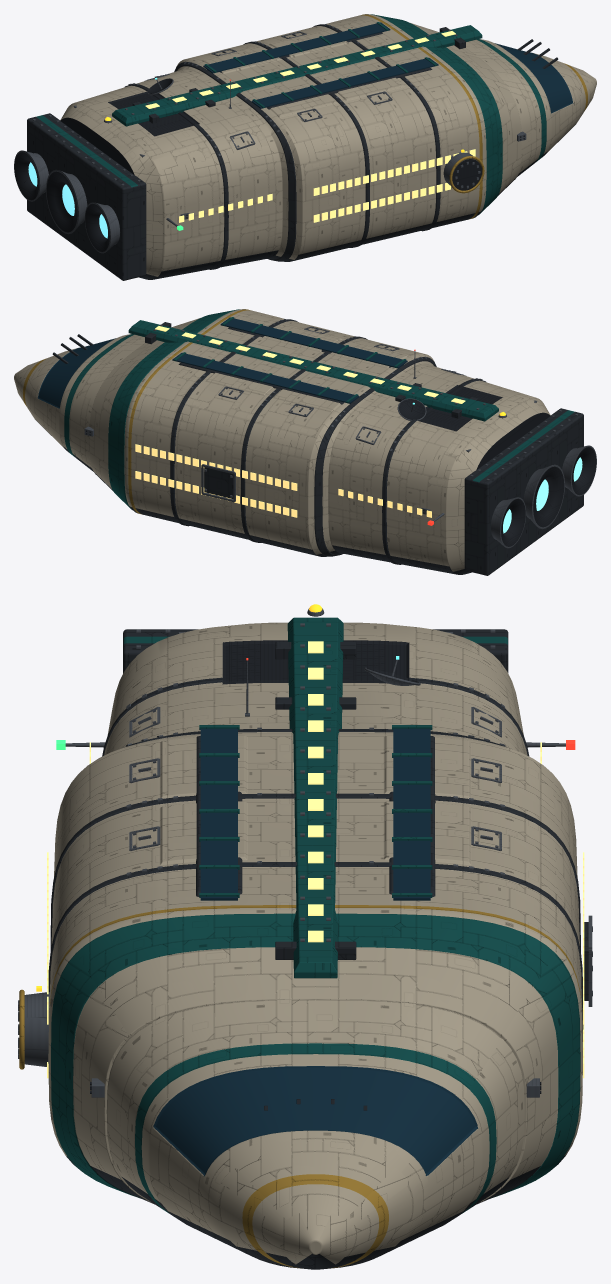
Rendered from massline_express_liner_v1.glb.
3 views of the same model, one above another, from view 1: azimuth 30°, elevation 25°; view 2: azimuth 150°, elevation 25°; view 3: azimuth 270°, elevation 25° (orthographic). The views are drawn at different scales.
Parts seen in each view (by area): view 1: LOD0_MOTION_HULL_CORE_Hull, LOD0_MOTION_HULL_CORE_Armor_frame, LOD0_MOTION_HULL_CORE_Armor, LOD0_MOTION_HULL_CORE_MechanicalDark, LOD0_MOTION_HULL_CORE_CANOPY, LOD0_MOTION_HULL_CORE_Mechanical, LOD0_MOTION_HULL_CORE_Lights_Warm, LOD0_MOTION_HULL_CORE_Warning, LOD0_MOTION_HULL_CORE_HOOK_DRIVE_CORE; view 2: LOD0_MOTION_HULL_CORE_Hull, LOD0_MOTION_HULL_CORE_Armor_frame, LOD0_MOTION_HULL_CORE_Armor, LOD0_MOTION_HULL_CORE_MechanicalDark, LOD0_MOTION_HULL_CORE_CANOPY, LOD0_MOTION_HULL_CORE_Mechanical, LOD0_MOTION_HULL_CORE_Lights_Warm, LOD0_MOTION_HULL_CORE_Warning, LOD0_MOTION_HULL_CORE_HOOK_DRIVE_CORE; view 3: LOD0_MOTION_HULL_CORE_Hull, LOD0_MOTION_HULL_CORE_Armor, LOD0_MOTION_HULL_CORE_CANOPY, LOD0_MOTION_HULL_CORE_Armor_frame, LOD0_MOTION_HULL_CORE_Mechanical, LOD0_MOTION_HULL_CORE_MechanicalDark, LOD0_MOTION_HULL_CORE_Warning, LOD0_MOTION_HULL_CORE_Lights_Warm.
Boxes of the visible parts, x1,y1,x2,y2 form: LOD0_MOTION_HULL_CORE_Hull: [60, 14, 596, 276]; LOD0_MOTION_HULL_CORE_Armor_frame: [27, 24, 575, 280]; LOD0_MOTION_HULL_CORE_Armor: [36, 14, 546, 214]; LOD0_MOTION_HULL_CORE_MechanicalDark: [14, 78, 524, 251]; LOD0_MOTION_HULL_CORE_CANOPY: [203, 22, 573, 113]; LOD0_MOTION_HULL_CORE_Mechanical: [14, 24, 526, 253]; LOD0_MOTION_HULL_CORE_Lights_Warm: [145, 31, 475, 222]; LOD0_MOTION_HULL_CORE_Warning: [361, 14, 587, 219]; LOD0_MOTION_HULL_CORE_HOOK_DRIVE_CORE: [28, 162, 107, 238]; LOD0_MOTION_HULL_CORE_Hull: [14, 309, 550, 571]; LOD0_MOTION_HULL_CORE_Armor_frame: [35, 319, 583, 575]; LOD0_MOTION_HULL_CORE_Armor: [64, 309, 574, 509]; LOD0_MOTION_HULL_CORE_MechanicalDark: [86, 385, 596, 546]; LOD0_MOTION_HULL_CORE_CANOPY: [37, 317, 407, 408]; LOD0_MOTION_HULL_CORE_Mechanical: [84, 319, 596, 548]; LOD0_MOTION_HULL_CORE_Lights_Warm: [135, 326, 465, 517]; LOD0_MOTION_HULL_CORE_Warning: [23, 309, 249, 514]; LOD0_MOTION_HULL_CORE_HOOK_DRIVE_CORE: [503, 457, 582, 533]; LOD0_MOTION_HULL_CORE_Hull: [48, 622, 582, 1264]; LOD0_MOTION_HULL_CORE_Armor: [51, 617, 580, 1213]; LOD0_MOTION_HULL_CORE_CANOPY: [153, 728, 477, 1176]; LOD0_MOTION_HULL_CORE_Armor_frame: [48, 629, 588, 1269]; LOD0_MOTION_HULL_CORE_Mechanical: [18, 608, 592, 1097]; LOD0_MOTION_HULL_CORE_MechanicalDark: [90, 640, 541, 1093]; LOD0_MOTION_HULL_CORE_Warning: [19, 905, 582, 1268]; LOD0_MOTION_HULL_CORE_Lights_Warm: [47, 641, 584, 1078].
Size of what is drawn, in the model's own units: 39.62 by 12.78 by 18.5.
13 materials, 6 textured.
